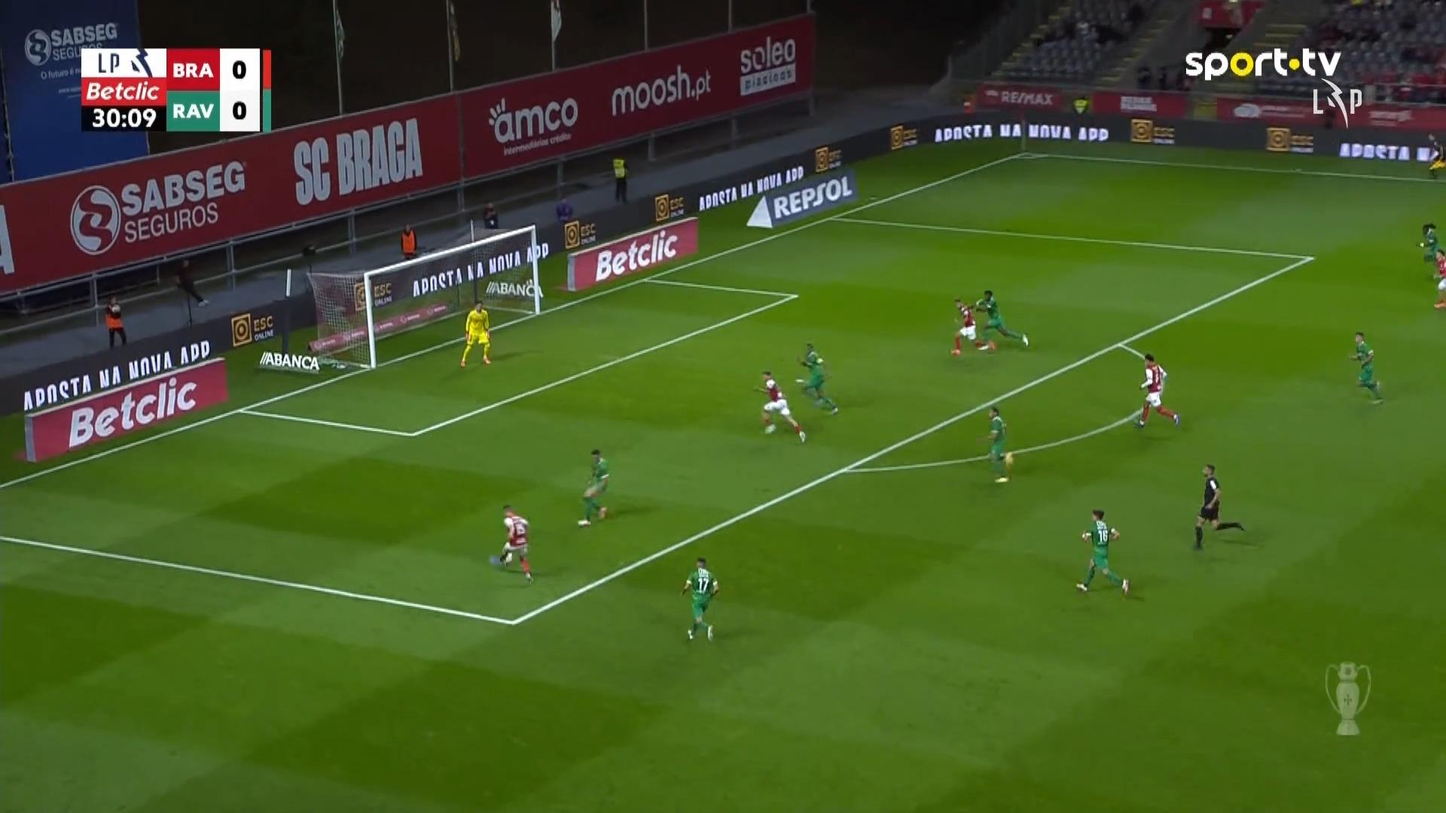ball: (500, 553, 512, 565)
goalkeeper: (459, 299, 492, 367)
player: (1075, 508, 1130, 595), (752, 370, 806, 444), (1133, 352, 1180, 428), (972, 289, 1029, 349), (679, 556, 719, 641), (489, 503, 532, 582), (795, 342, 839, 415), (949, 297, 996, 356), (979, 405, 1014, 482), (576, 447, 610, 526), (1348, 330, 1383, 405), (1417, 222, 1438, 279), (1432, 248, 1445, 309)
referee: (1193, 463, 1243, 549), (1426, 132, 1444, 180)
